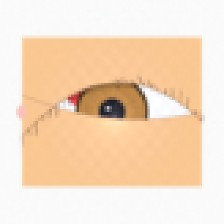hemorrhage_spot: (54, 57, 152, 135)
